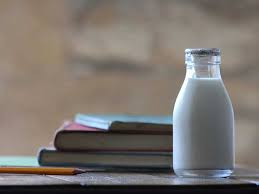milk: (176, 46, 243, 181)
